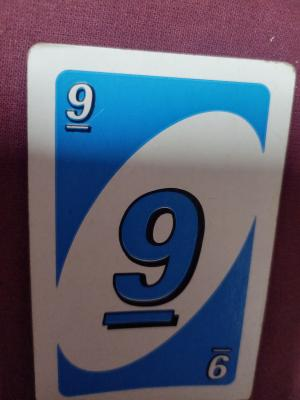blue: (44, 72, 243, 391)
num_9: (63, 75, 99, 139), (204, 342, 237, 387)
